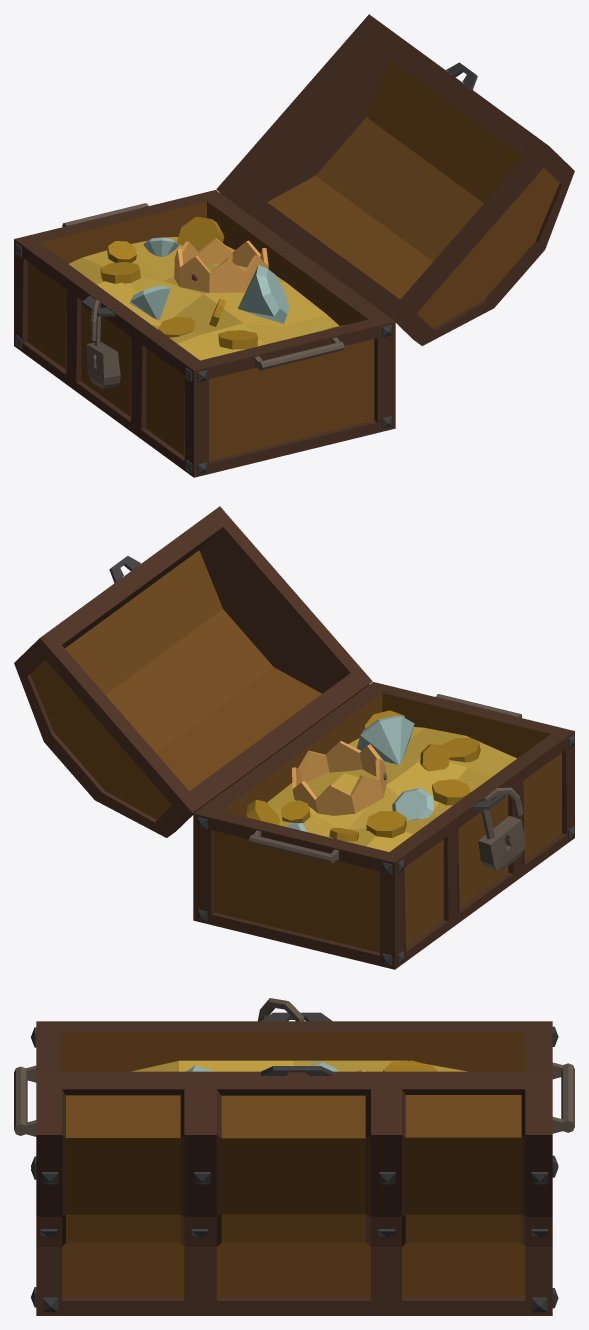
File: treasure_chest_open_static.fbx
3 renders of one model, top to bottom at view 1: azimuth 30°, elevation 25°; view 2: azimuth 150°, elevation 25°; view 3: azimuth 270°, elevation 25°, orthographic. The views are drawn at different scales.
Visible parts, largest first — view 1: Cylinder.001; view 2: Cylinder.001; view 3: Cylinder.001.
Part boxes in pixels (x1,y1,x2,y2): Cylinder.001: [14, 14, 574, 477]; Cylinder.001: [14, 506, 574, 969]; Cylinder.001: [14, 998, 574, 1315].
Size of the model in its own units: 403 by 240 by 336.
